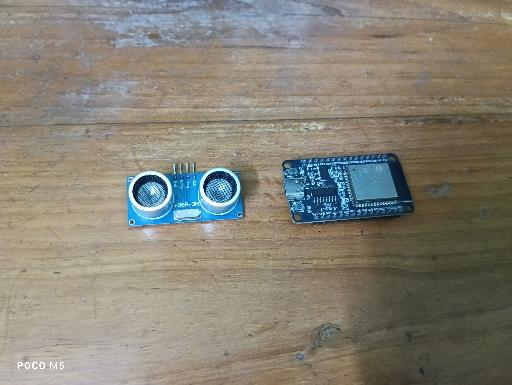Esp32: (282, 153, 415, 228)
sensor: (127, 162, 244, 228)
